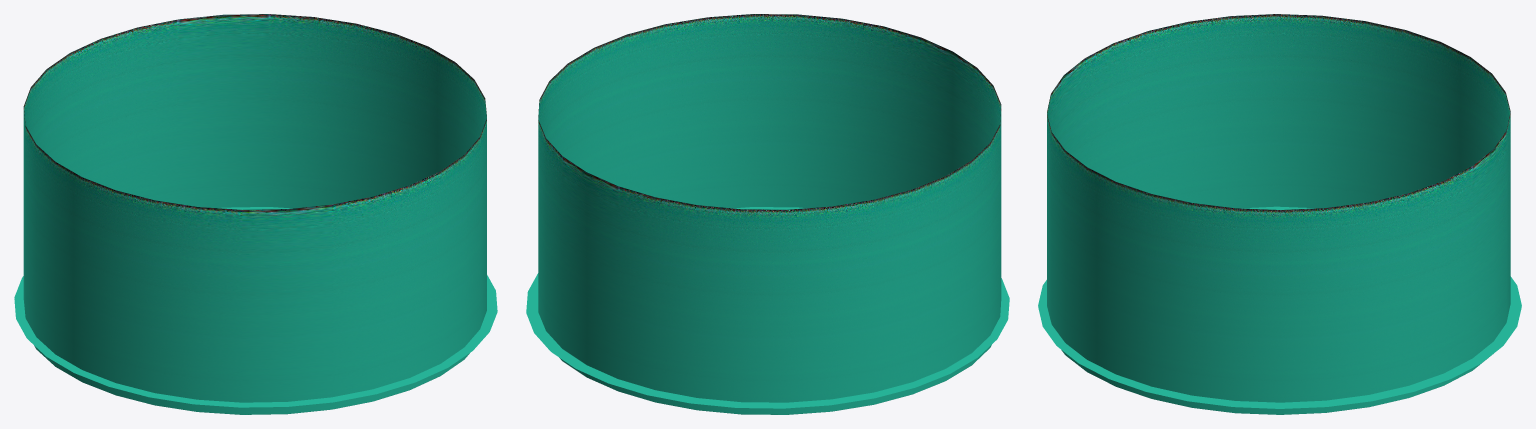
Rendered from teleportationSpotBasev8.fbx.
3 renders of one model, left to right at view 1: azimuth 30°, elevation 25°; view 2: azimuth 150°, elevation 25°; view 3: azimuth 270°, elevation 25°, orthographic.
Visible parts, largest first — view 1: Cylinder.020; view 2: Cylinder.020; view 3: Cylinder.020.
Boxes of the visible parts, bbox=[...] form: Cylinder.020: bbox=[14, 14, 497, 414]; Cylinder.020: bbox=[526, 14, 1009, 414]; Cylinder.020: bbox=[1038, 14, 1521, 414].
Bounding box in the file's own units: 65.52 × 30.63 × 65.52.
Materials: 2 (2 with a texture image).
